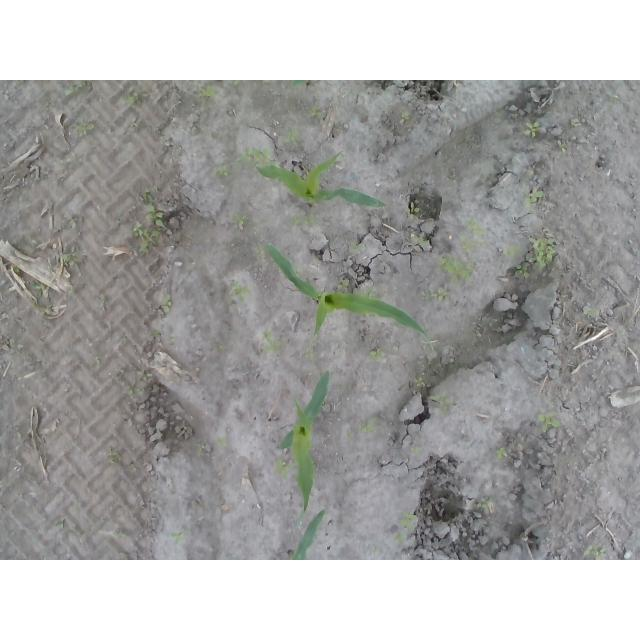Maize: (265, 240, 432, 343), (253, 147, 386, 210), (278, 372, 331, 529), (288, 509, 326, 560)
Weeds: (503, 233, 559, 280), (133, 184, 167, 256), (439, 254, 479, 289), (456, 215, 490, 254), (232, 148, 272, 169), (75, 111, 98, 145), (392, 511, 417, 541), (225, 278, 251, 306), (528, 411, 560, 433), (258, 331, 281, 354), (418, 286, 451, 302), (430, 392, 450, 417), (64, 80, 93, 97), (523, 185, 545, 207), (309, 94, 328, 119), (281, 126, 303, 147), (290, 80, 310, 102), (358, 414, 379, 434), (231, 209, 255, 225), (291, 213, 318, 227), (274, 458, 290, 481), (403, 201, 421, 219), (584, 546, 608, 558), (399, 111, 417, 126), (476, 495, 494, 510), (64, 246, 79, 264), (199, 83, 218, 97), (523, 121, 538, 138), (411, 232, 430, 245), (160, 294, 172, 314), (212, 165, 232, 177), (127, 384, 146, 396), (368, 350, 385, 362), (584, 304, 601, 316), (348, 241, 361, 256), (172, 529, 185, 543), (494, 447, 506, 462), (128, 95, 144, 106), (355, 288, 374, 297), (112, 530, 129, 540), (211, 340, 225, 352), (31, 279, 45, 290), (447, 361, 465, 369), (142, 370, 153, 383), (495, 103, 505, 117), (409, 447, 423, 457), (557, 139, 567, 153), (129, 120, 144, 129), (108, 453, 120, 464), (336, 278, 347, 290), (305, 347, 316, 359), (415, 377, 426, 388), (215, 435, 225, 447), (570, 118, 583, 127), (227, 80, 241, 88), (197, 446, 206, 458), (95, 356, 103, 369), (55, 520, 66, 529), (255, 245, 264, 255), (169, 334, 176, 344), (510, 335, 518, 341)
